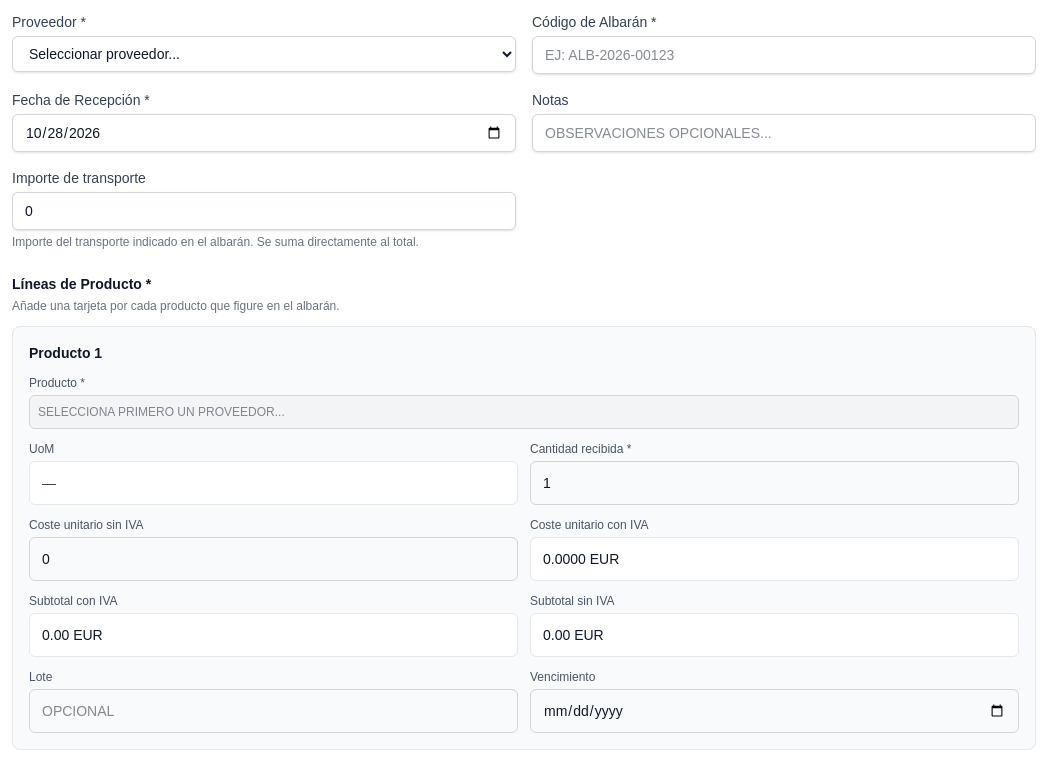
ReceiptForm provider products › loads products only for the selected provider and clears them when it changes
Expected: the number field labelled "Coste unitario sin IVA" is shown, [29,537,518,581]
Select "Proveedor 1" in the dropdown labelled "Proveedor *": (264, 54) [12,36,516,72]
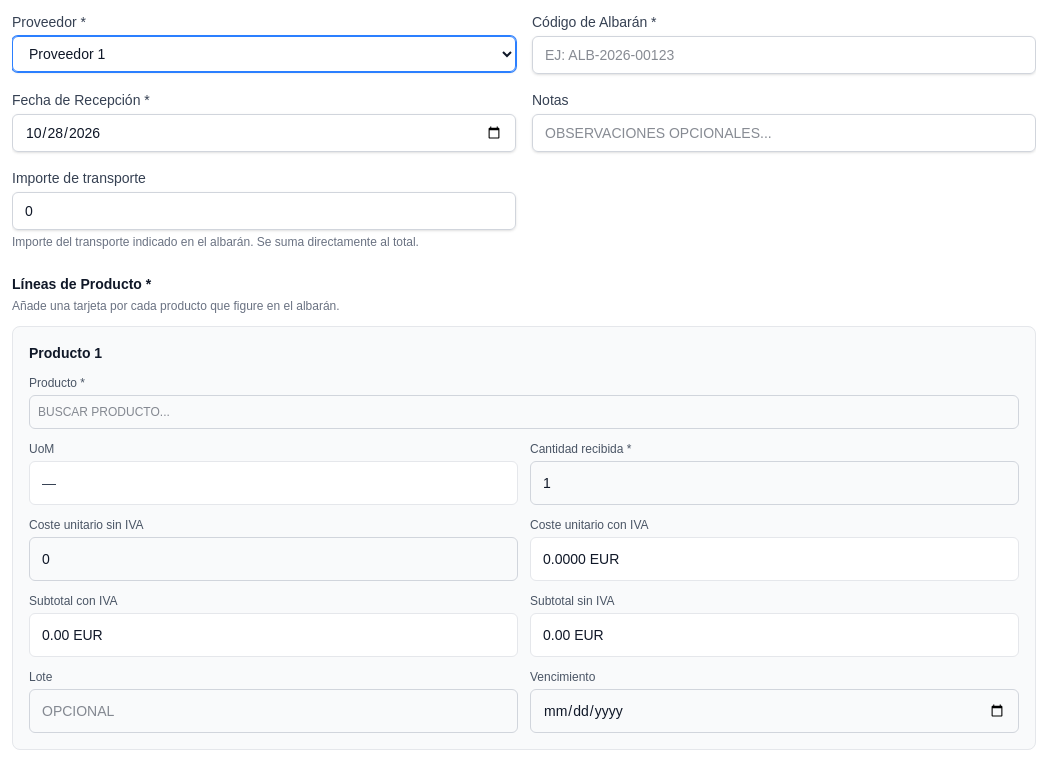
Click the field with placeholder "Buscar producto...": (524, 412) [29,395,1019,429]
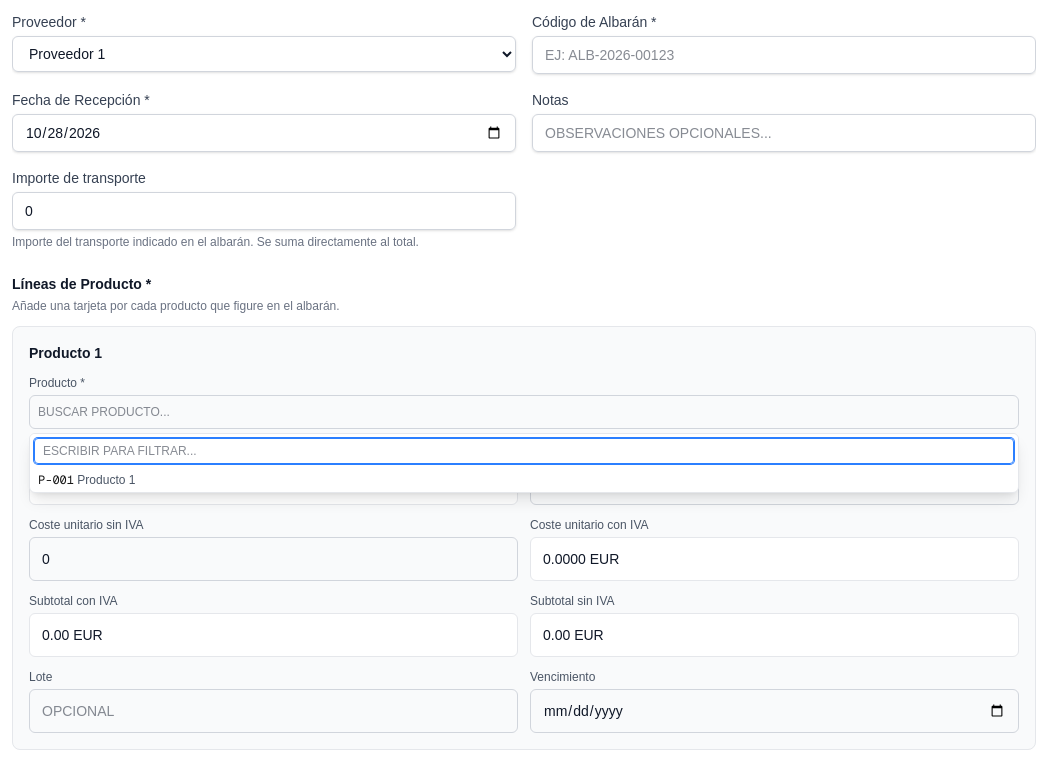
Expected: the button "P-002 Producto 2" is not shown
Expected: the button "P-001 Producto 1" is shown
Click the button "P-001 Producto 1": (56, 480) [30,468,1018,492]
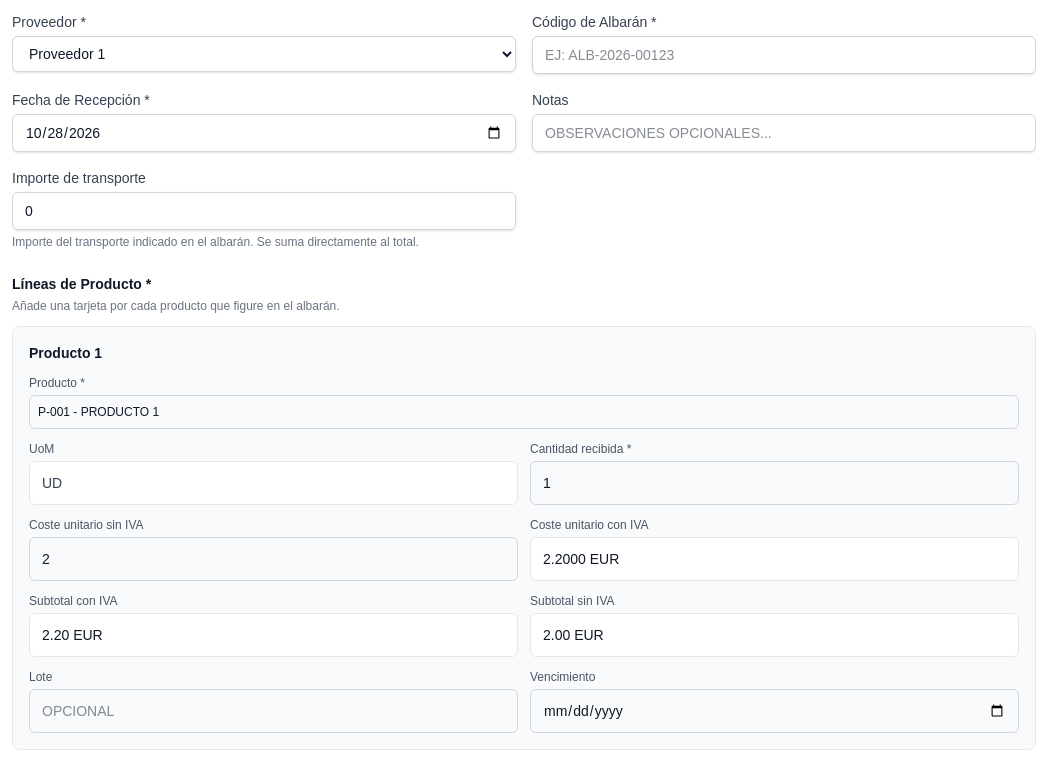
Expected: the field showing "P-001 - Producto 1" is shown, [29,395,1019,429]
Expected: the number field labelled "Coste unitario sin IVA" holds "2", [29,537,518,581]
Expected: the text "2.2000 EUR" is shown, [530,537,1019,581]
Replace the text in the number field labelled "Importe de transporte" with "1.50": (264, 211) [12,192,516,230]
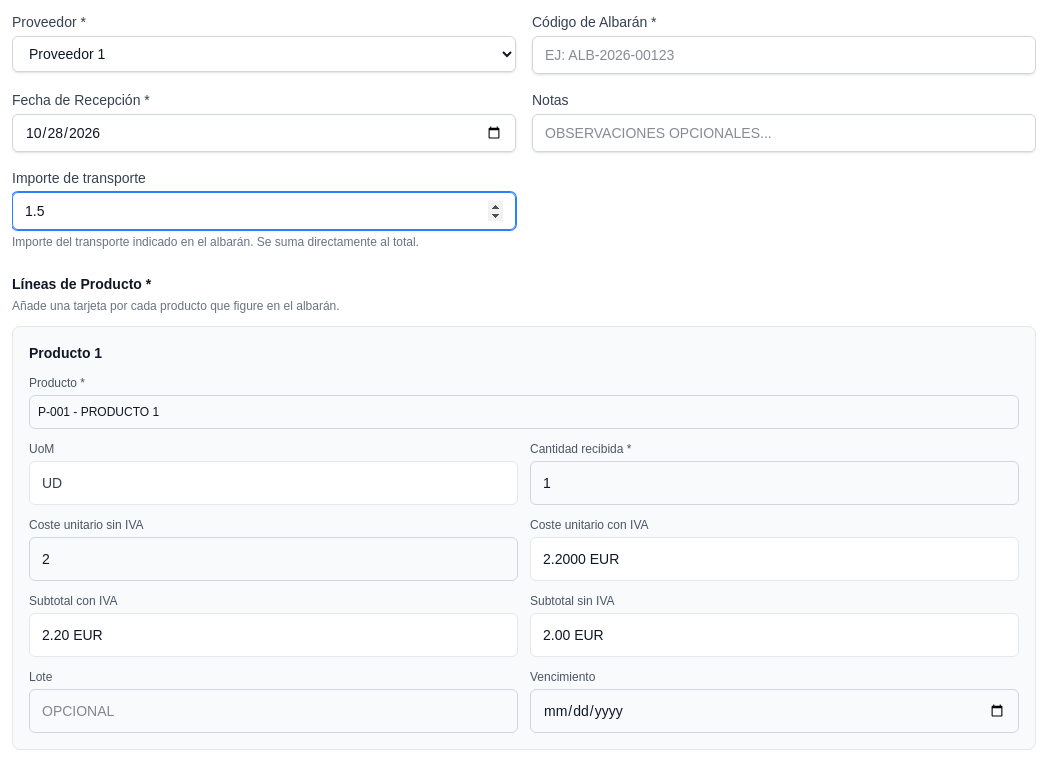
Select "Proveedor 2" in the dropdown labelled "Proveedor *": (264, 54) [12,36,516,72]
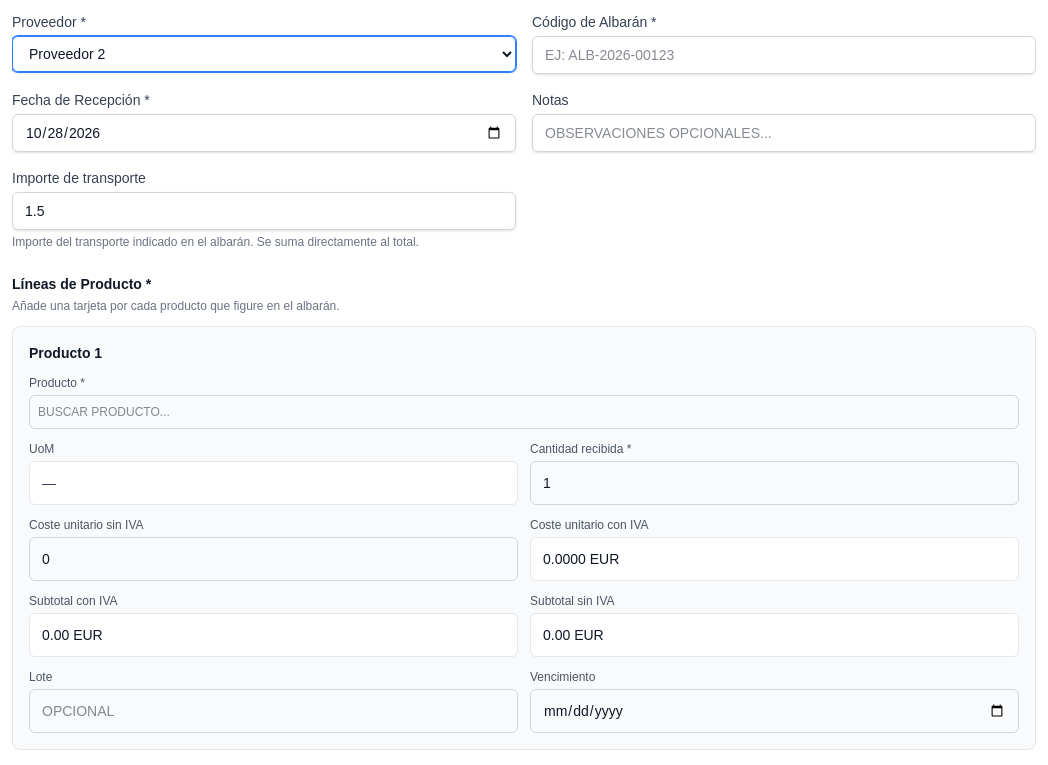
Expected: the field with placeholder "Buscar producto..." is empty
Click the field with placeholder "Buscar producto...": (524, 412) [29,395,1019,429]
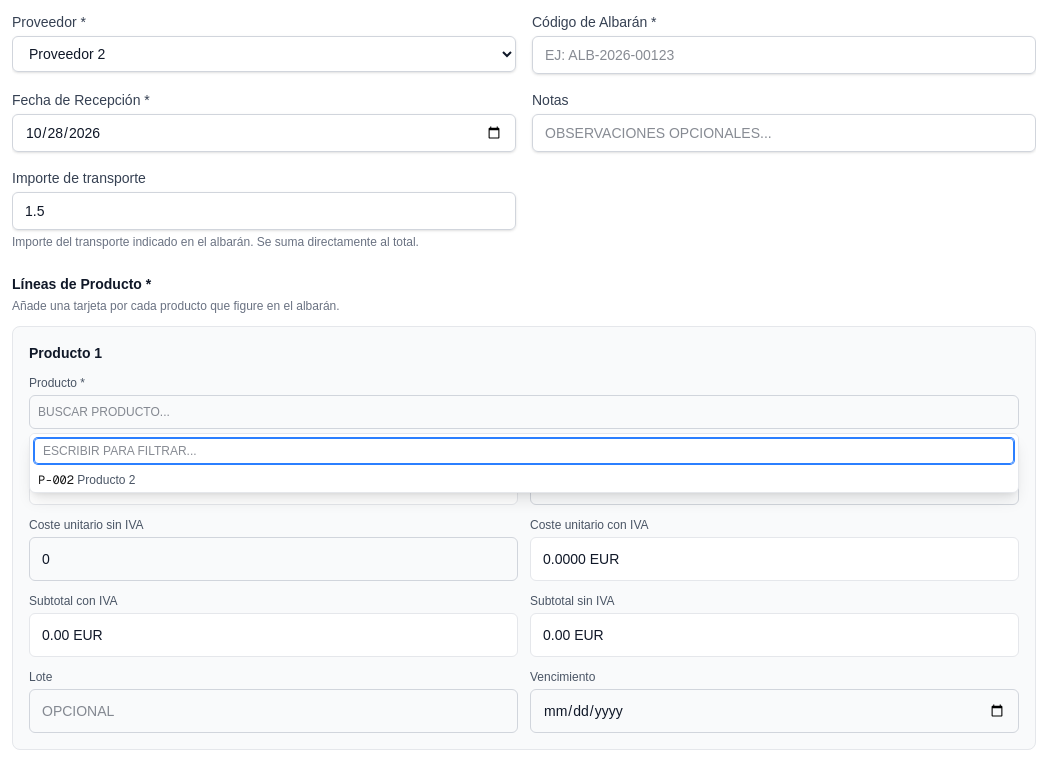
Expected: the button "P-001 Producto 1" is not shown
Expected: the button "P-002 Producto 2" is shown, [30,468,1018,492]
